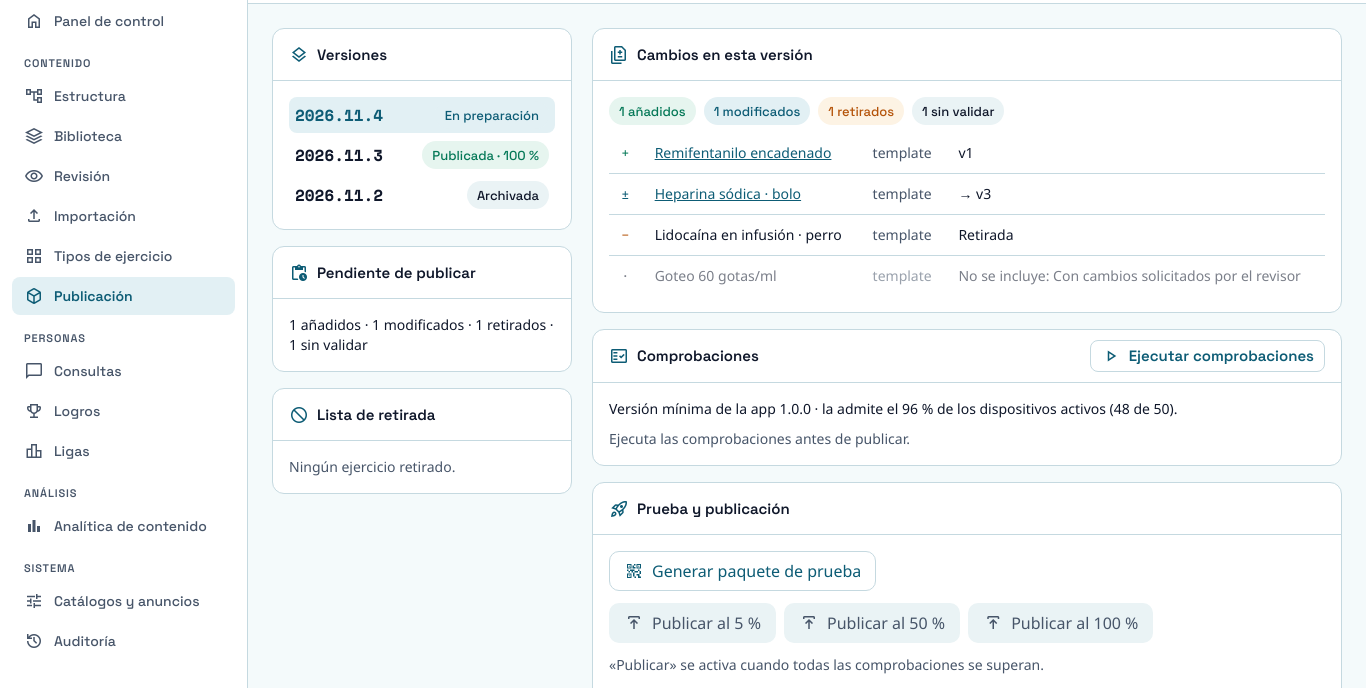
Test: B17 · versionado y publicación › Discrepancia en el doble cálculo: la publicación se bloquea y se enlaza la plantilla afectada
What coordinates should you click on to do the following:
click the button "Ejecutar comprobaciones"
I would click on:
 (1207, 356)
Its box is [1090, 340, 1325, 372].
(page scrolled)
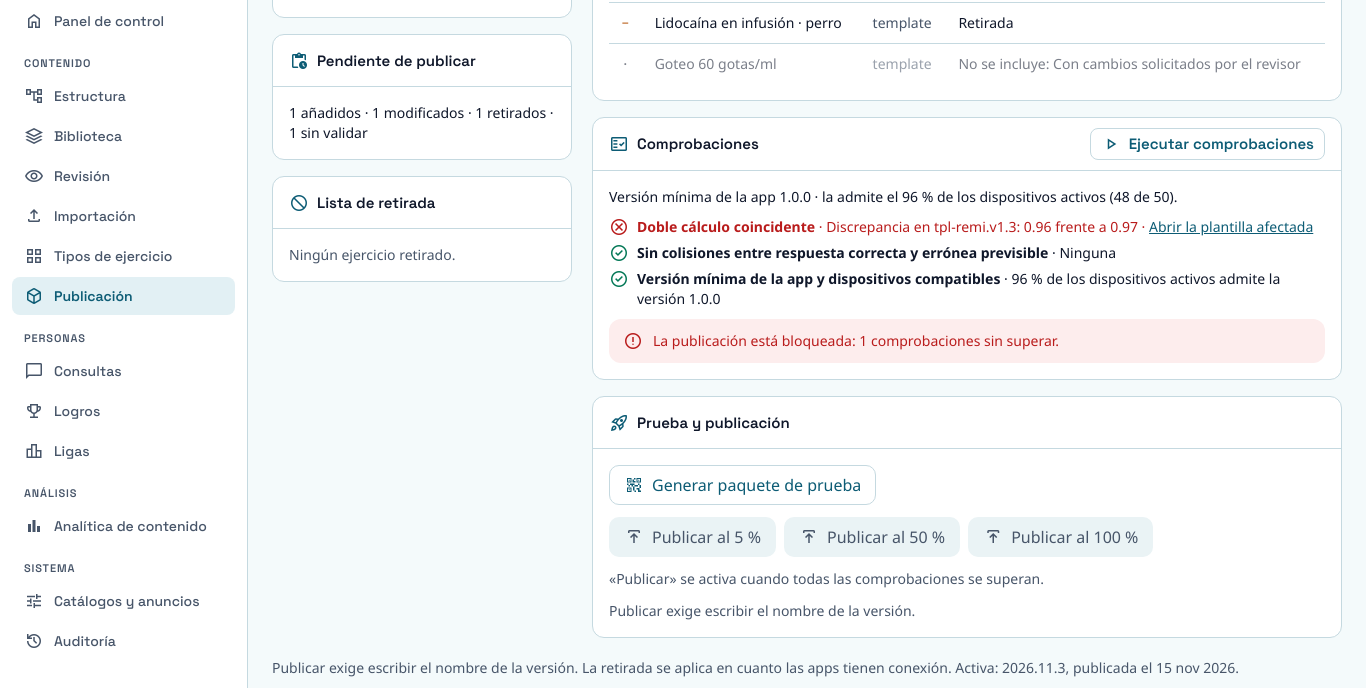
Check: the button "Publicar al 5 %" is disabled, box [609, 517, 776, 557]
Check: the list named "Resultado de las comprobaciones" shows "Discrepancia en tpl-remi.v1.3: 0.96 frente a 0.97", box [826, 217, 1138, 236]
Check: the text "La publicación está bloqueada: 1 comprobaciones sin superar." is shown, box [653, 331, 1059, 350]
